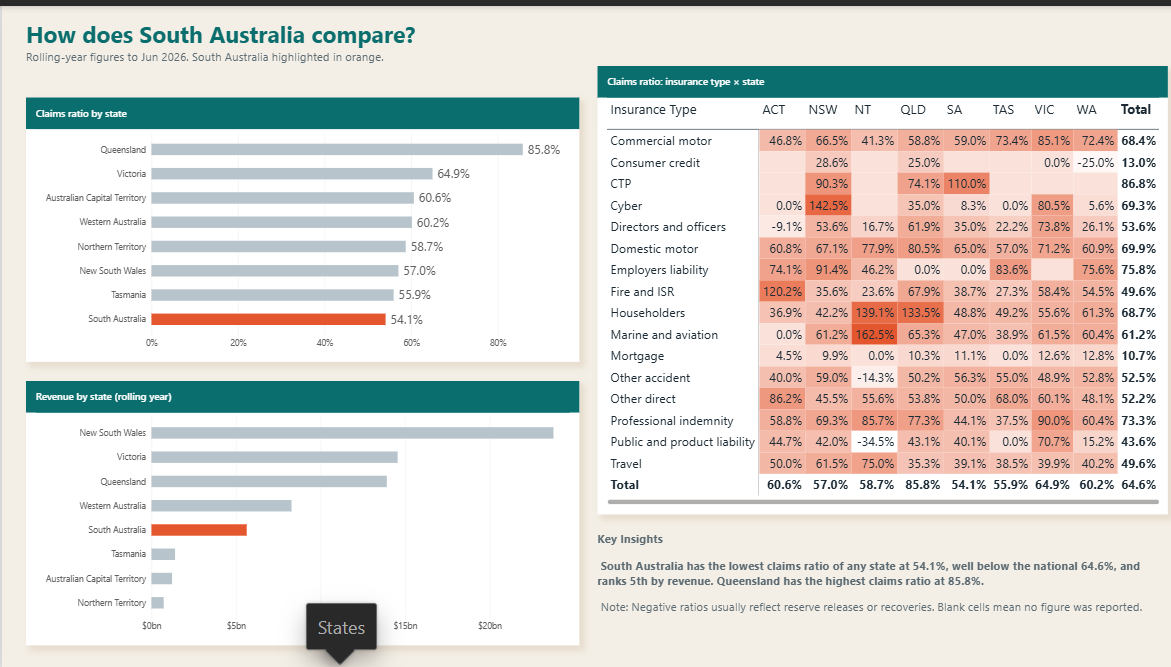

This screenshot's page, from the dashboard's own definition file:
{"tool":"powerbi","page":{"name":"States","canvas":[1920,1080],"ordinal":2},"visuals":[{"type":"textbox","box":[40,20,1840,110],"z":0},{"type":"clusteredBarChart","title":"Claims ratio by state","fields":{"Category":["Insurance Data.State"],"Y":["Measure_Table.Claims Ratio R4Q"]},"box":[40,150,900,430],"z":1000},{"type":"clusteredBarChart","title":"Revenue by state (rolling year)","fields":{"Category":["Insurance Data.State"],"Y":["Measure_Table.Revenue R4Q"]},"box":[40,610,900,430],"z":2000},{"type":"pivotTable","title":"Claims ratio: insurance type × state","fields":{"Columns":["Insurance Data.State Short"],"Rows":["Insurance Data.Insurance Type"],"Values":["Measure_Table.Claims Ratio R4Q"]},"box":[968.6,97.6,929.6,729.5],"z":3000},{"type":"textbox","box":[969.1,853.7,911.4,185.3],"z":3001}]}

Visuals, with their boxes in screenshot pixels (x1, y1, x2, y2), scaled from the page's 1920x1080 canvas onto the 1171x667 screenshot:
textbox: 24 12 1147 80
"Claims ratio by state" clusteredBarChart: 24 93 573 358
"Revenue by state (rolling year)" clusteredBarChart: 24 377 573 642
"Claims ratio: insurance type × state" pivotTable: 591 60 1158 511
textbox: 591 527 1147 642
